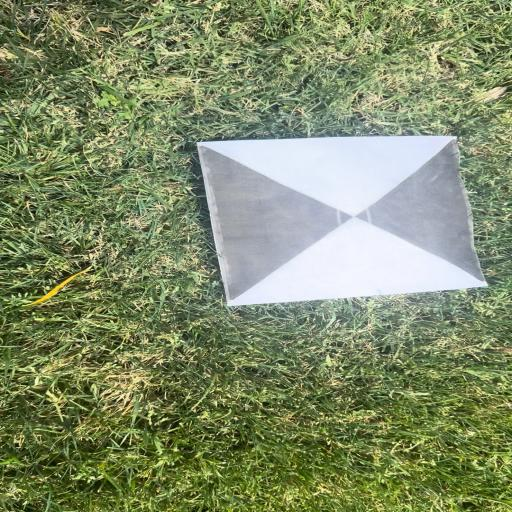target: (197, 133, 488, 305)
